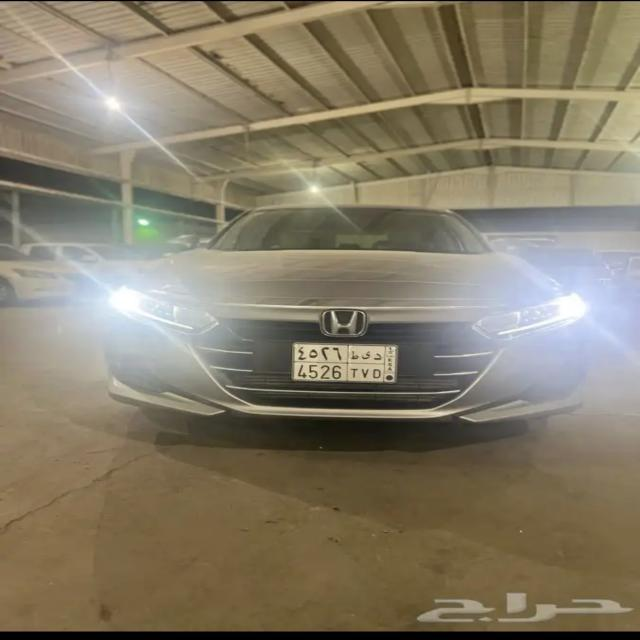license_plate: (293, 342, 397, 384)
